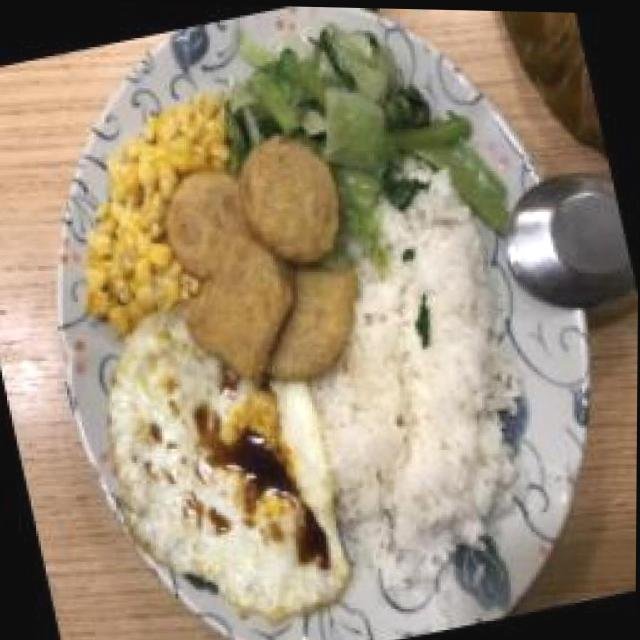chicken_nuggets: (150, 121, 379, 400)
fried_eggs: (79, 273, 361, 640)
rice: (287, 233, 557, 591)
